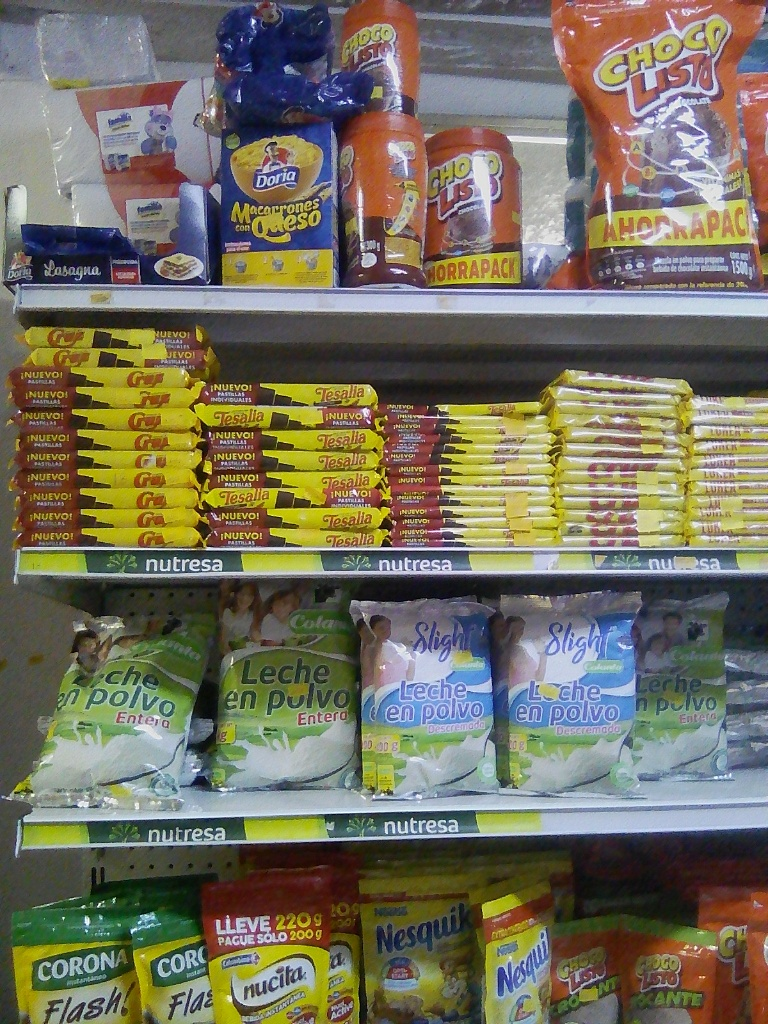COL0170102DYP10000: (550, 917, 626, 1024)
COL0170103DYP1,500: (553, 0, 763, 296)
COL0170103TRR00100: (426, 121, 535, 285)
COL0170103TRR30000: (339, 113, 430, 296)
COL0170303DYP20000: (361, 870, 478, 1024)
